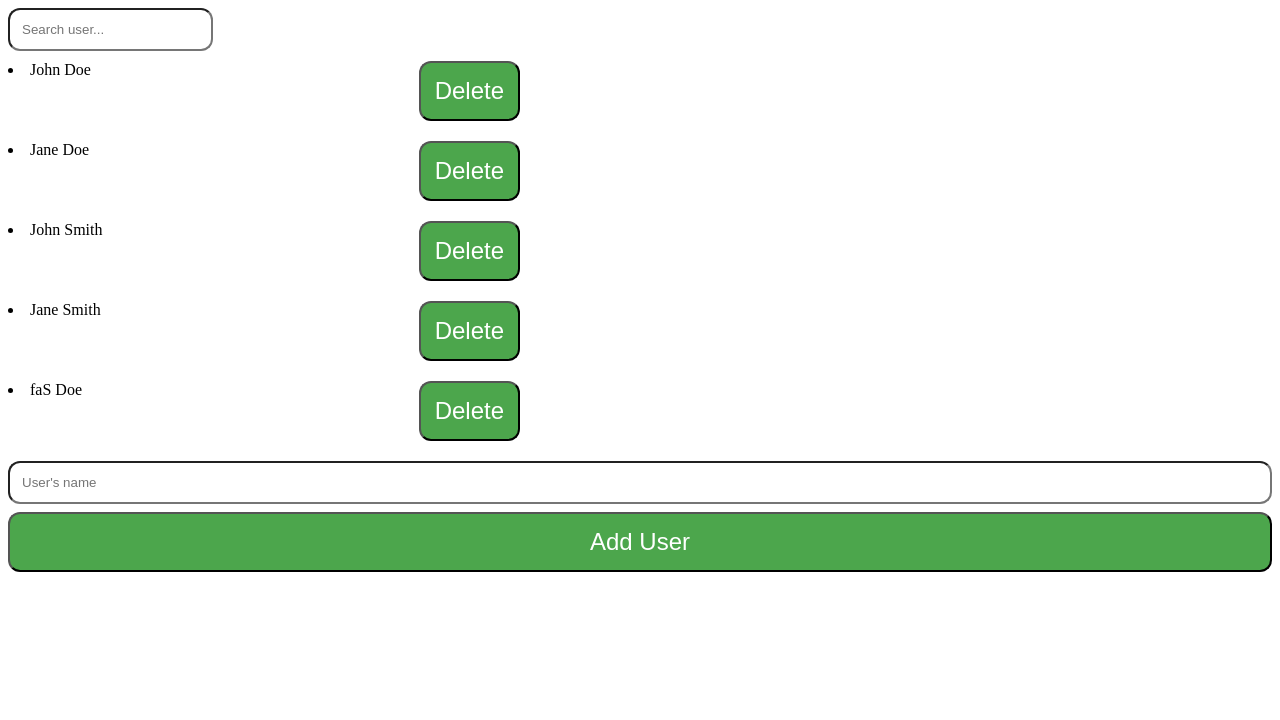
Test: Functional test › Filters tests › filter input should filter data from ul list
Type "Jane Doe" into the field with placeholder "Search user..." at (110, 30), box [8,8,213,51]
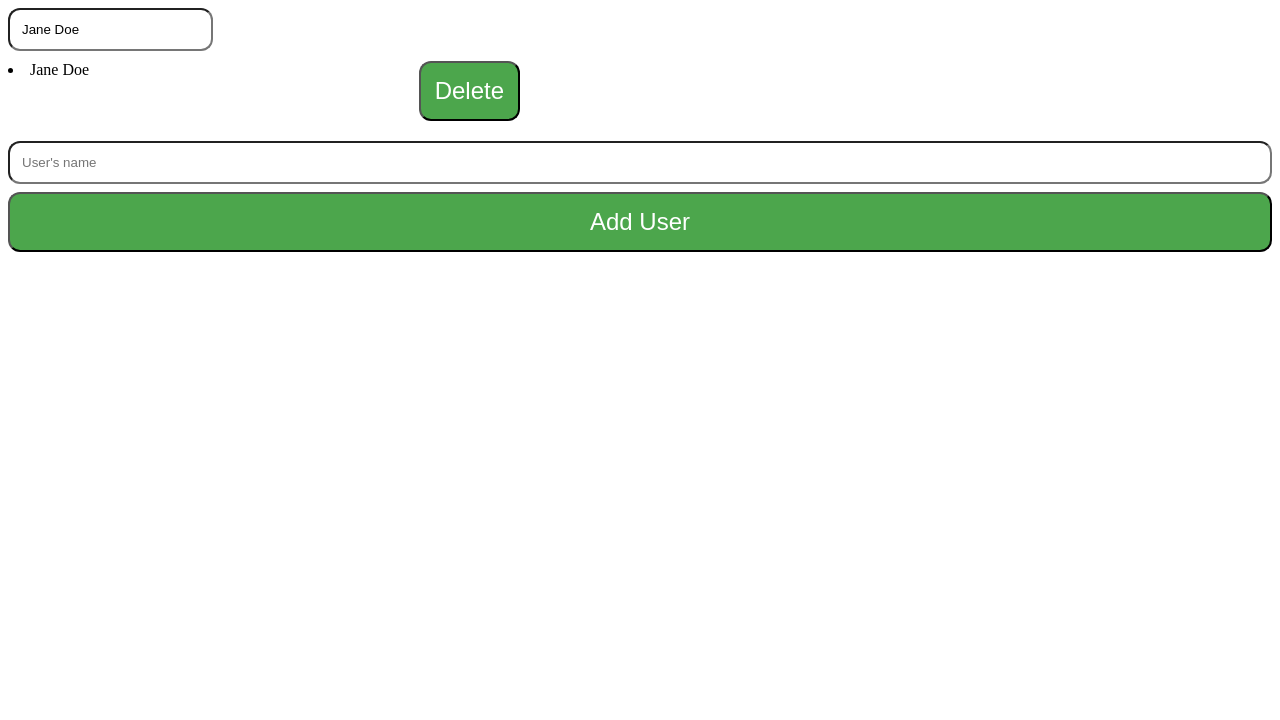
Now the number of list items is 1, box [30,61,89,78]
